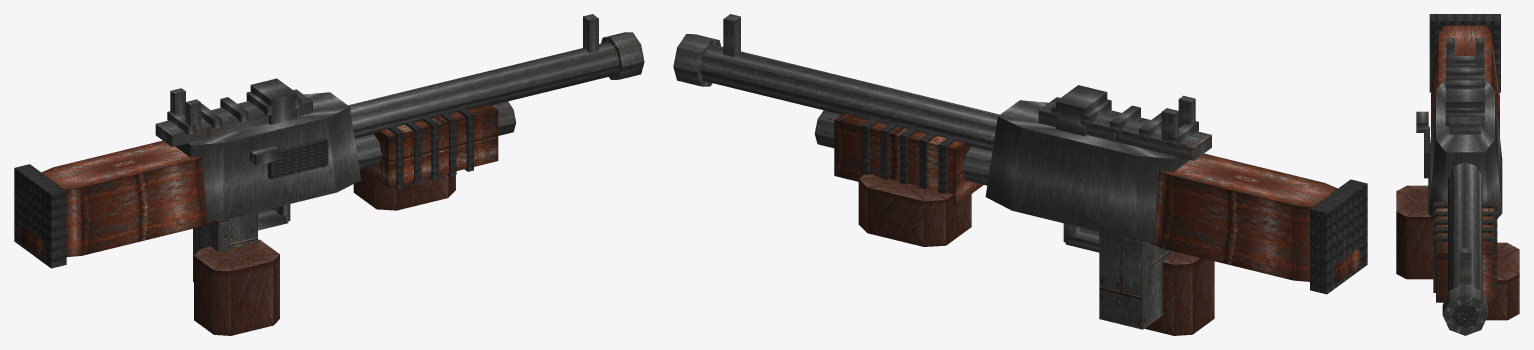
File: shotgun.obj
3 views of the same model, side by side, from view 1: azimuth 30°, elevation 25°; view 2: azimuth 150°, elevation 25°; view 3: azimuth 270°, elevation 25° (orthographic). The views are drawn at different scales.
Visible parts, largest first — view 1: shotgun; view 2: shotgun; view 3: shotgun.
Part boxes in pixels (bbox=[...]): shotgun: bbox=[14, 14, 644, 335]; shotgun: bbox=[673, 14, 1367, 335]; shotgun: bbox=[1396, 14, 1519, 335].
Size of the model in its own units: 1.37 by 0.4675 by 0.25.
Materials: 1 (1 with a texture image).
